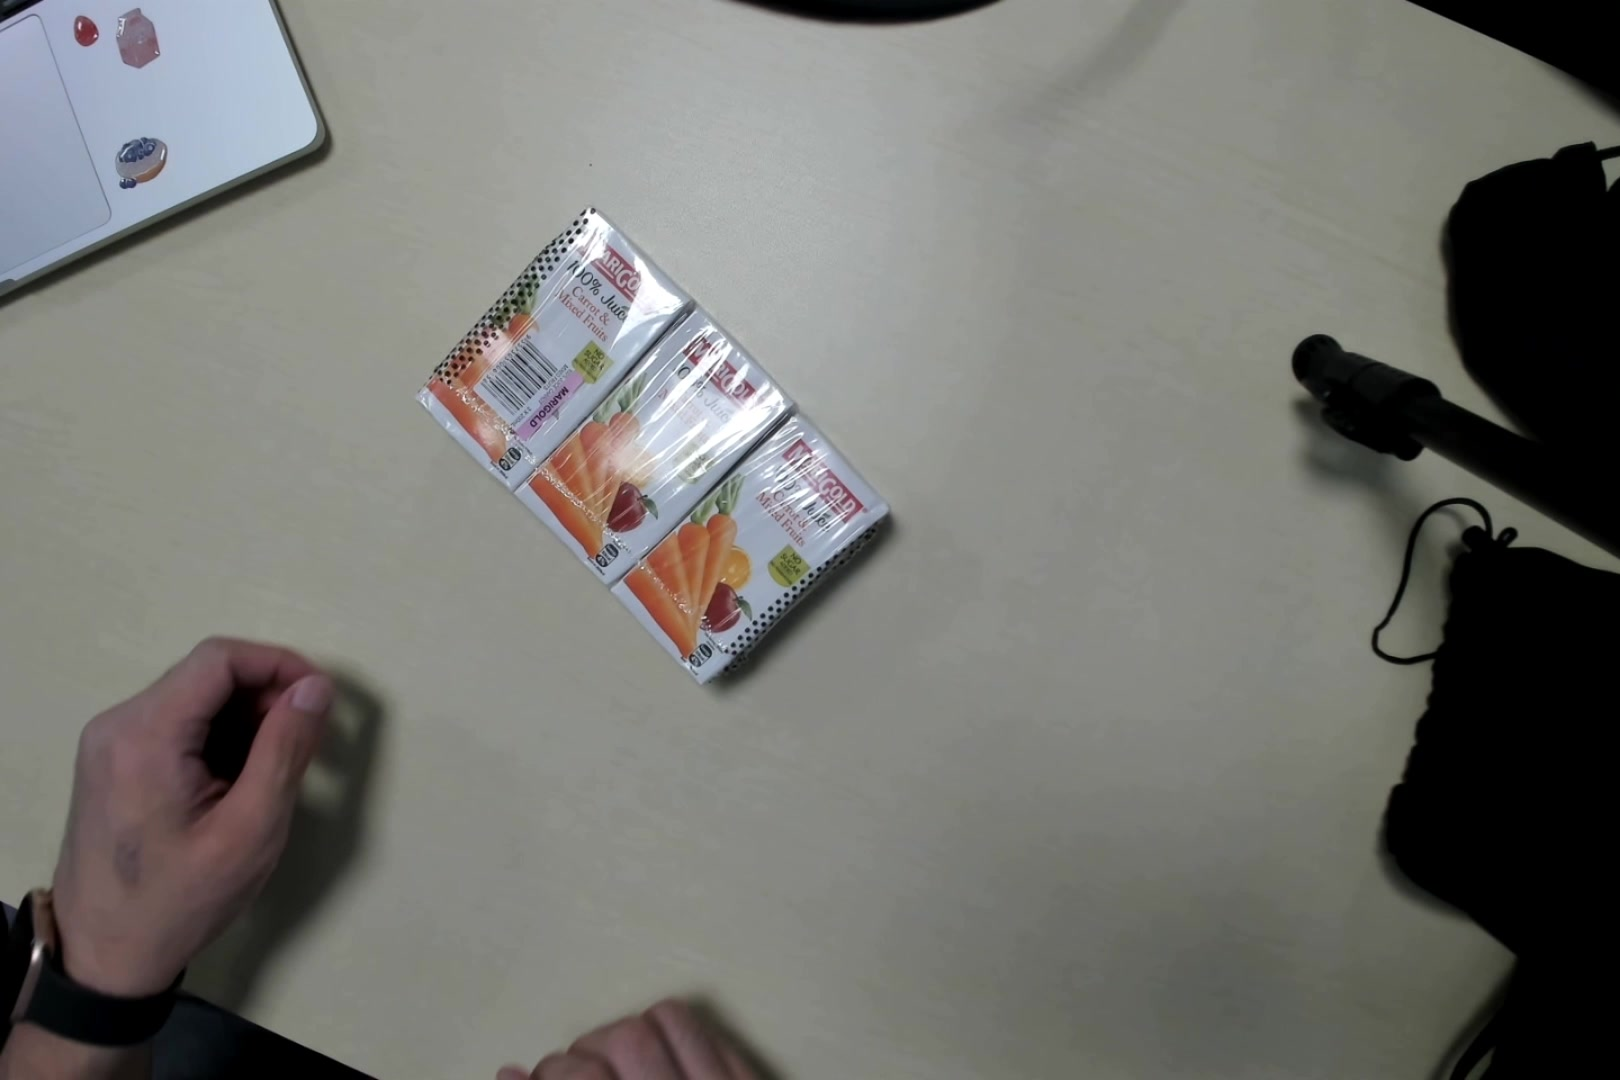FruitJuiceDrink_500-599g_Halal_NonHealthy: (428, 206, 893, 691)
